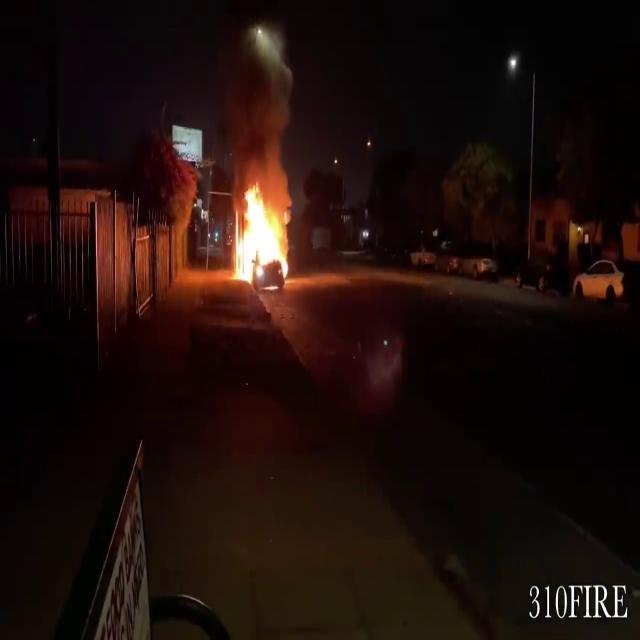Fire: (230, 181, 296, 286)
Smoke: (224, 30, 298, 184)
